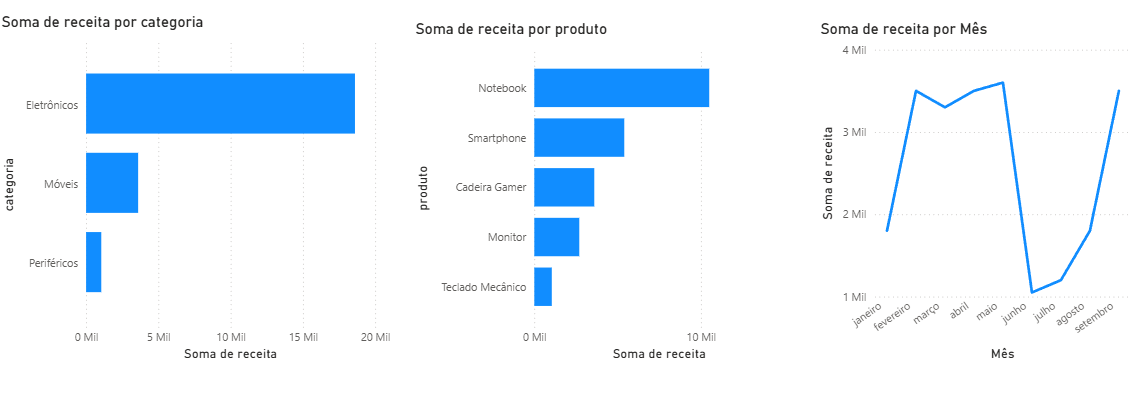

This screenshot's page, from the dashboard's own definition file:
{"tool":"powerbi","page":{"name":"Página 1","canvas":[1280,720],"ordinal":0},"visuals":[{"type":"barChart","fields":{"Category":["vendas_completas.categoria"],"Y":["Sum(vendas_completas.receita)"]},"box":[0,148.6,455.7,421.4],"z":1},{"type":"clusteredBarChart","fields":{"Category":["vendas_completas.produto"],"Y":["Sum(vendas_completas.receita)"]},"box":[455.7,148.6,454.3,412.9],"z":2},{"type":"lineChart","fields":{"Category":["vendas_completas.data_venda.Variation.Hierarquia de datas.Mês"],"Y":["Sum(vendas_completas.receita)"]},"box":[910,148.6,370,421.4],"z":3}]}

Visuals, with their boxes on the page's 1280x720 design canvas (x1, y1, x2, y2). These are canvas units, not pixel positions in the 1135x407 screenshot, which may show the page scaled, cropped or inside an application window:
barChart - vendas_completas.categoria x Sum(vendas_completas.receita): x1=0, y1=149, x2=456, y2=570
clusteredBarChart - vendas_completas.produto x Sum(vendas_completas.receita): x1=456, y1=149, x2=910, y2=562
lineChart - vendas_completas.data_venda.Variation.Hierarquia de datas.Mês x Sum(vendas_completas.receita): x1=910, y1=149, x2=1280, y2=570
